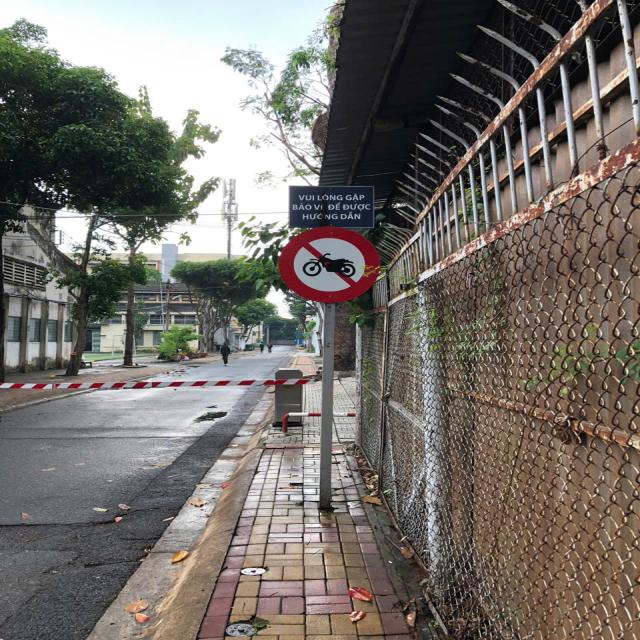Bien bao cam xe may: (270, 224, 390, 300)
